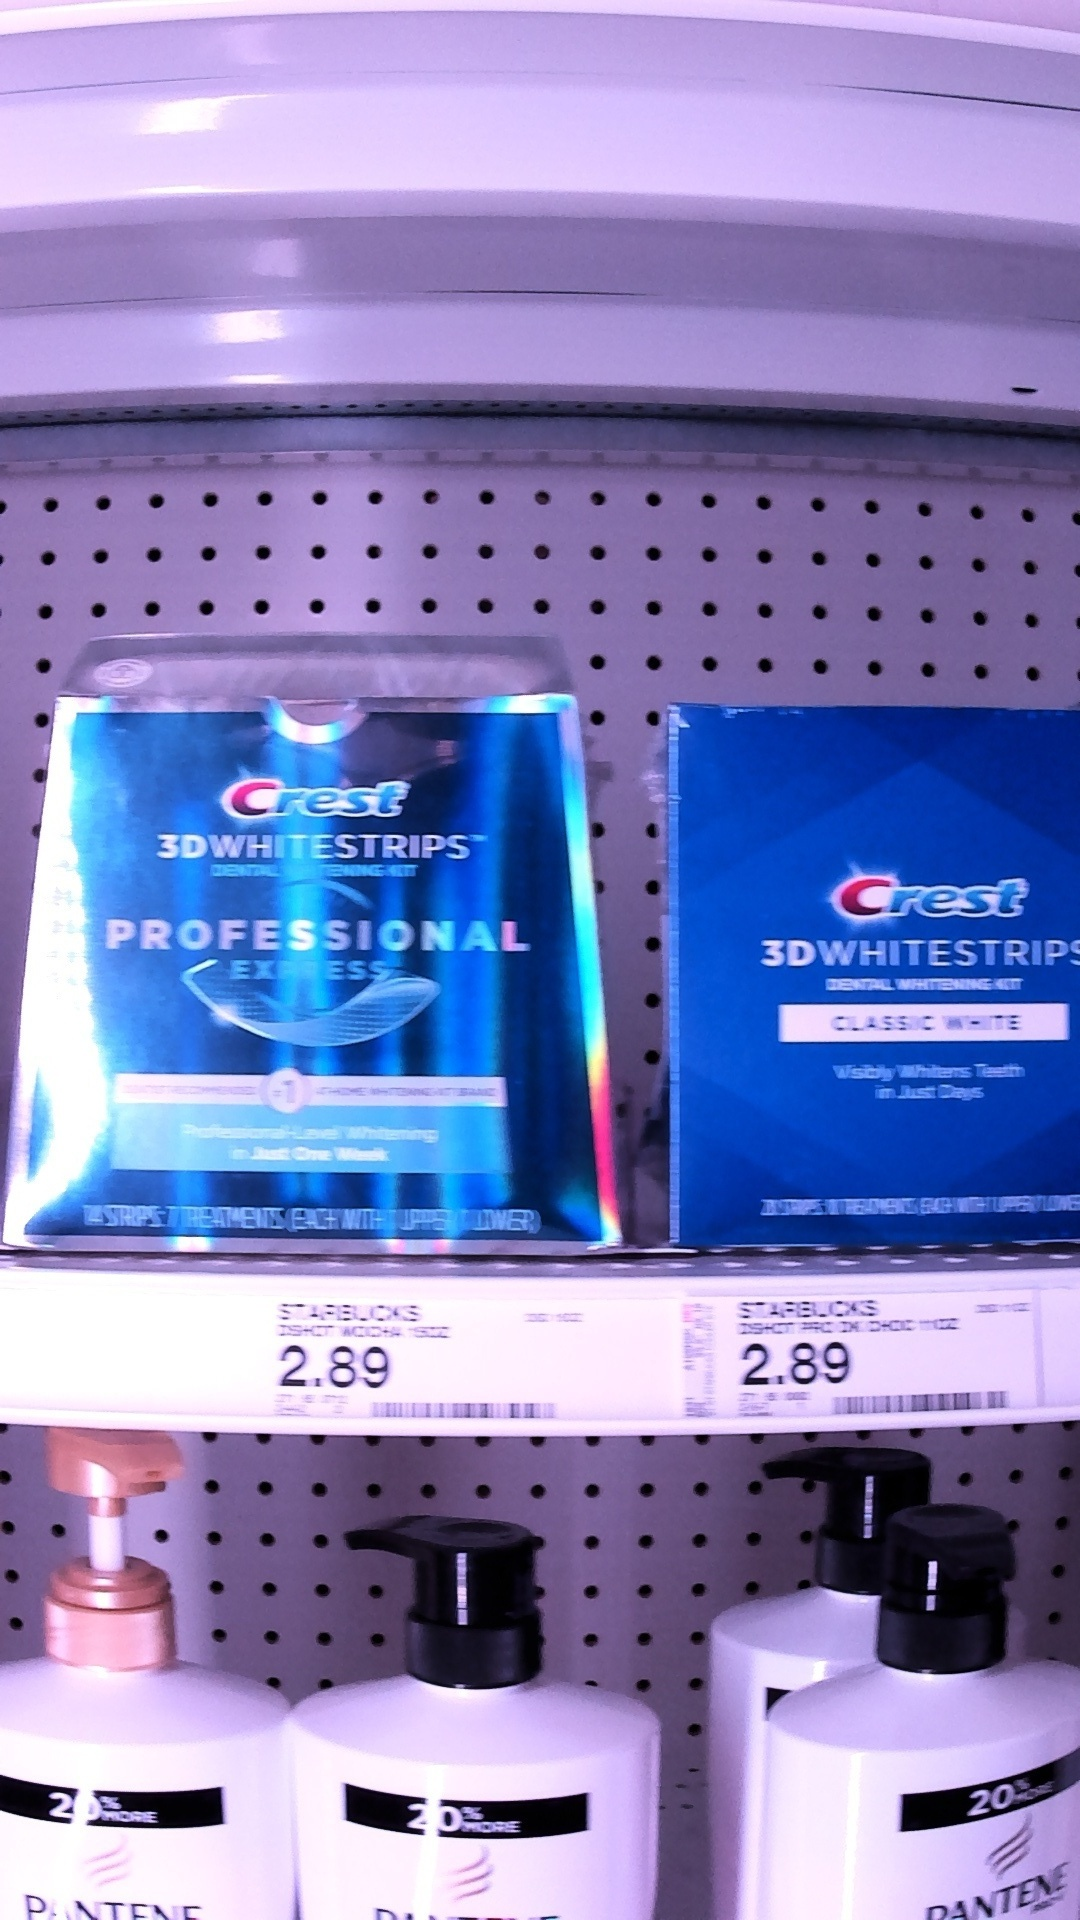ptag: (673, 1282, 1051, 1420), (258, 1280, 578, 1435)
